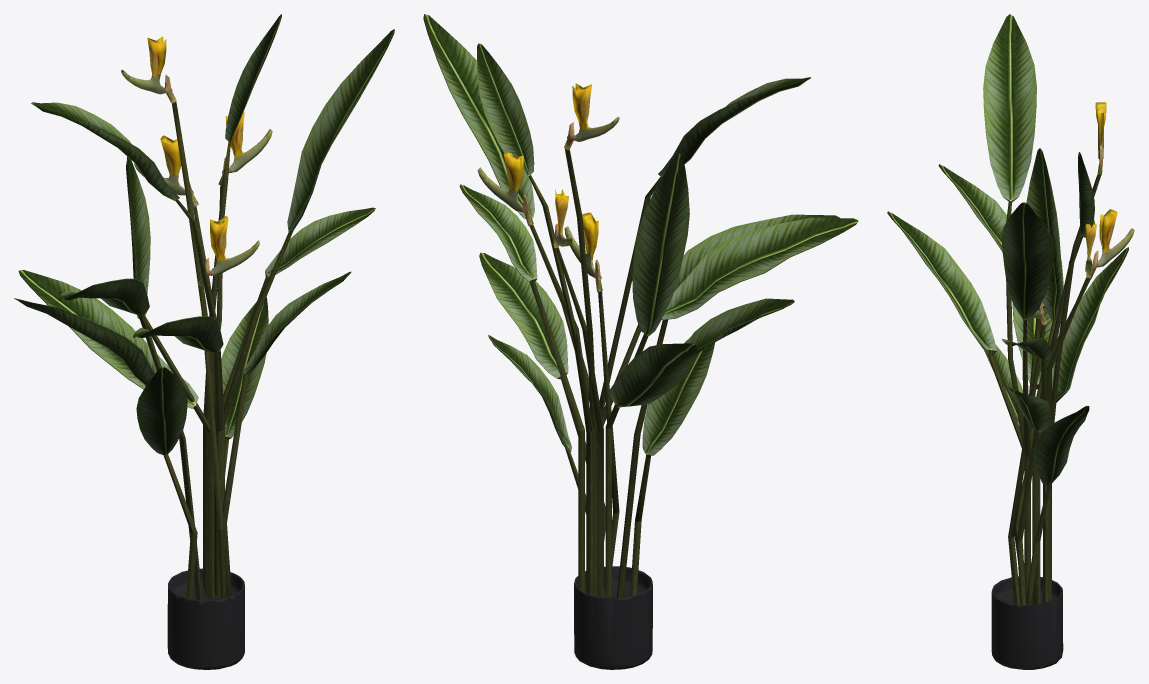
File: palme.dae
The picture shows the model from 3 angles, left to right: view 1: azimuth 30°, elevation 25°; view 2: azimuth 150°, elevation 25°; view 3: azimuth 270°, elevation 25°; orthographic projection. The views are drawn at different scales.
Parts seen in each view (by area): view 1: _3DGeom_1_Defintion (×28); view 2: _3DGeom_1_Defintion (×27); view 3: _3DGeom_1_Defintion (×28).
Boxes of the visible parts, x1,y1,x2,y2 form: _3DGeom_1_Defintion (×28): [14, 14, 394, 667]; _3DGeom_1_Defintion (×27): [424, 14, 858, 667]; _3DGeom_1_Defintion (×28): [887, 14, 1134, 669].
Bounding box in the file's own units: 47.92 × 29.22 × 72.89.
Materials: 1 (1 with a texture image).
